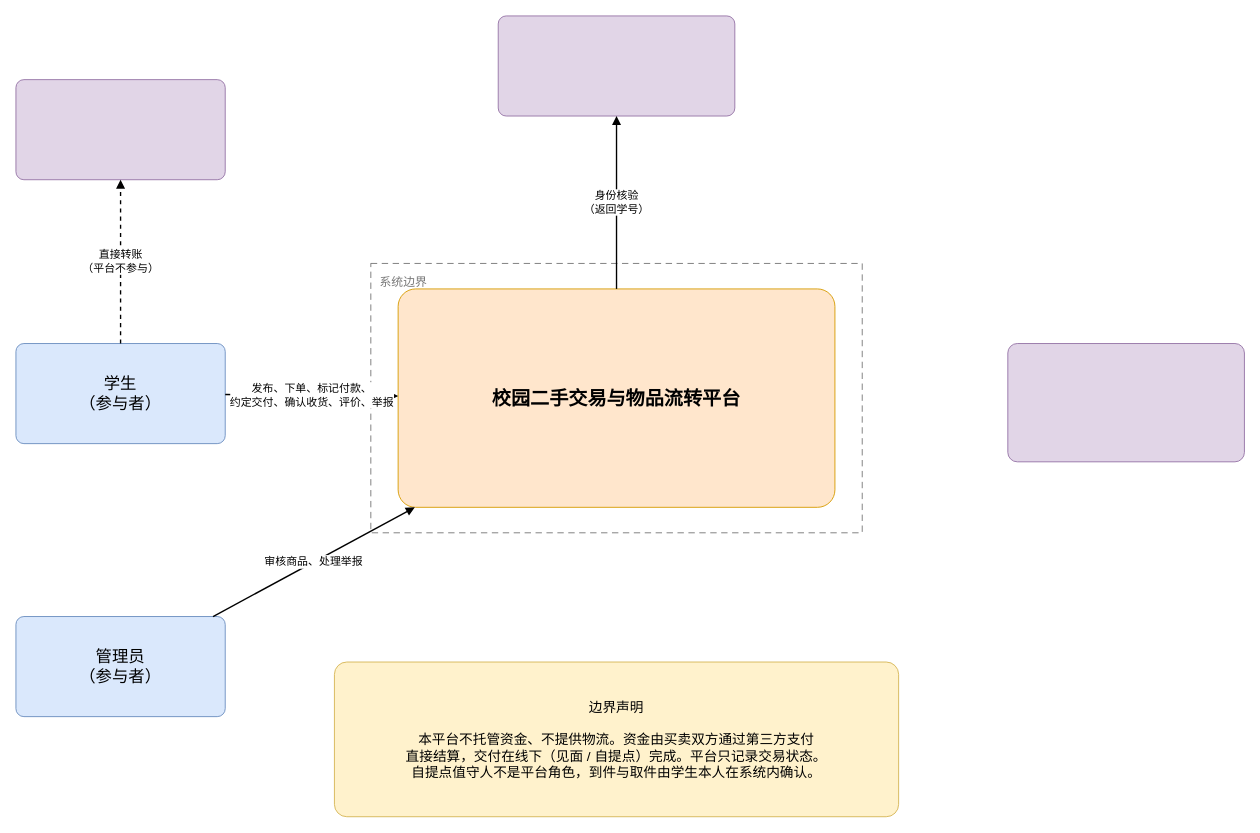
Some shapes in this 1260 by 833 pixel diagram are drawn without their labels. The centre of each missing label's shape, as x and y in pixels:
"学校统一身份认证 （外部系统）" belongs at point (616, 65).
"校内自提点 （外部组织） 仅线下交付场所 无系统接口" belongs at point (1125, 402).
"第三方支付 （外部系统）" belongs at point (120, 129).
